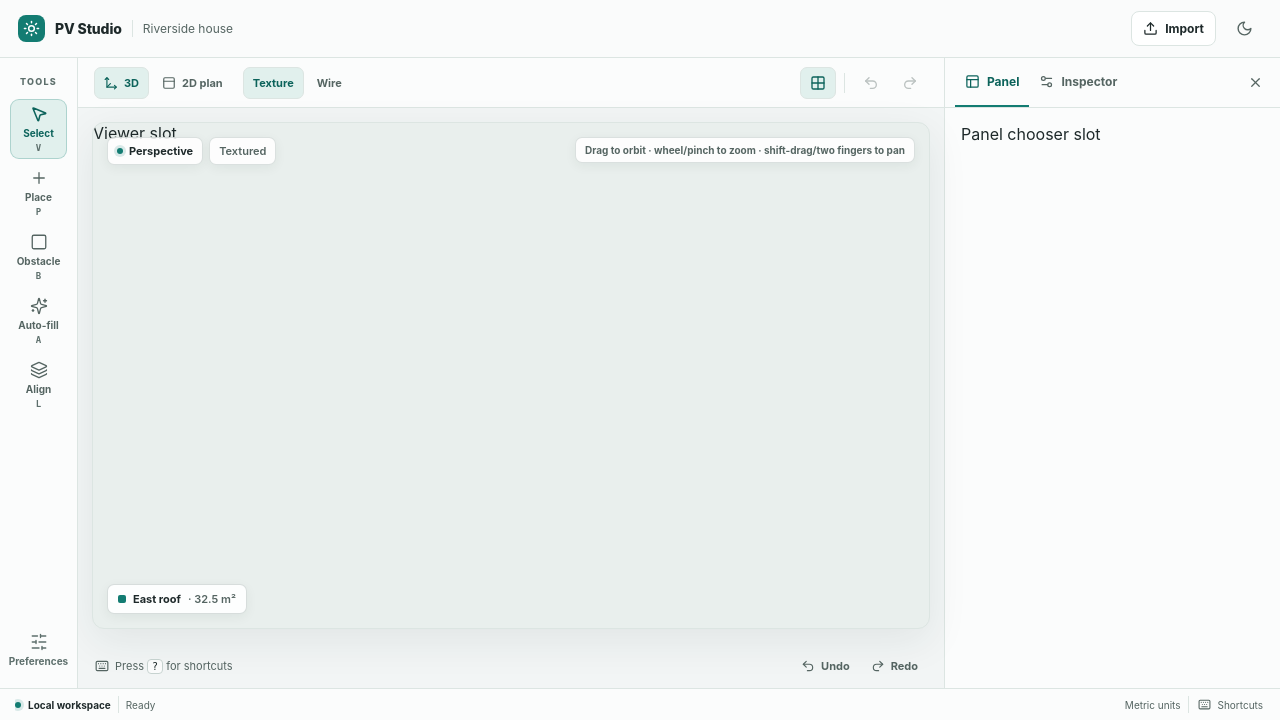
Shell › renders feature slots and typed selection context without inventing values
Expected: the heading "PV Studio" is shown, top-left (55, 20), bottom-right (122, 37)
Expected: the text "Riverside house" is shown, top-left (143, 21), bottom-right (233, 36)
Click the tab "Inspector" at {"x": 1078, "y": 82}, box top-left (1030, 58), bottom-right (1127, 107)
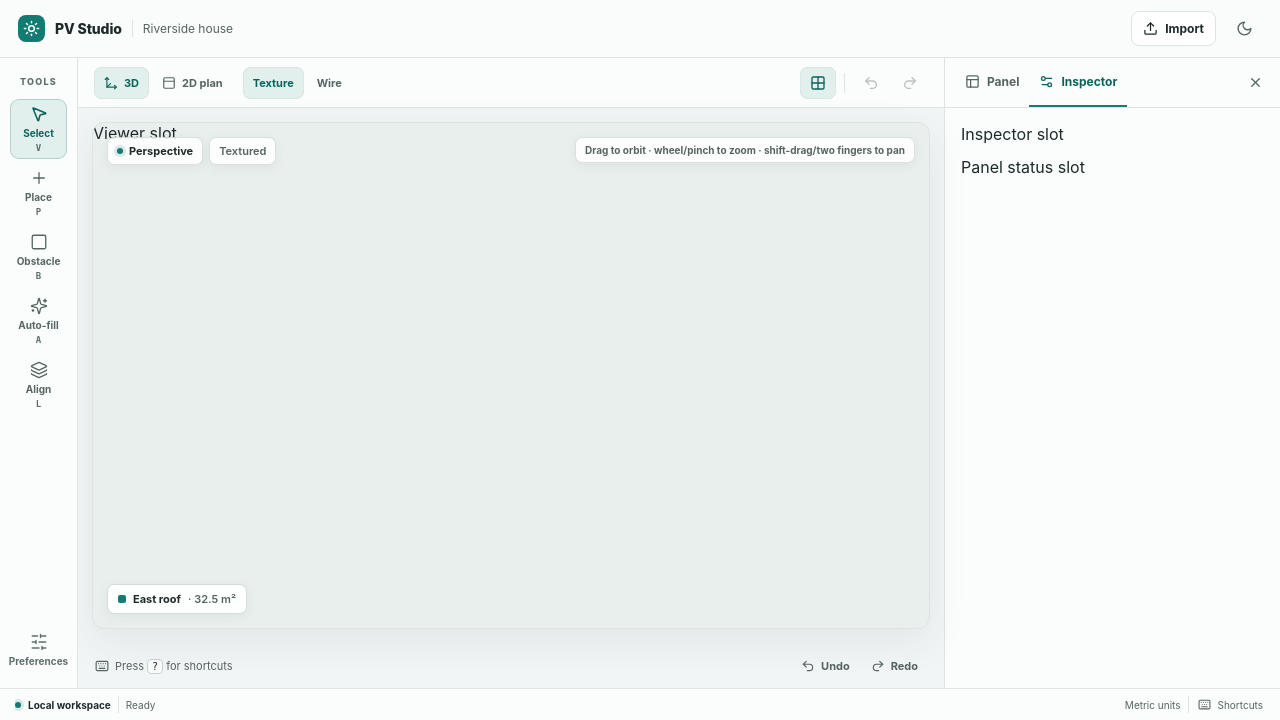
Expected: the text "Inspector slot" is shown, top-left (961, 124), bottom-right (1064, 144)
Expected: the text "Panel status slot" is shown, top-left (961, 157), bottom-right (1085, 177)
